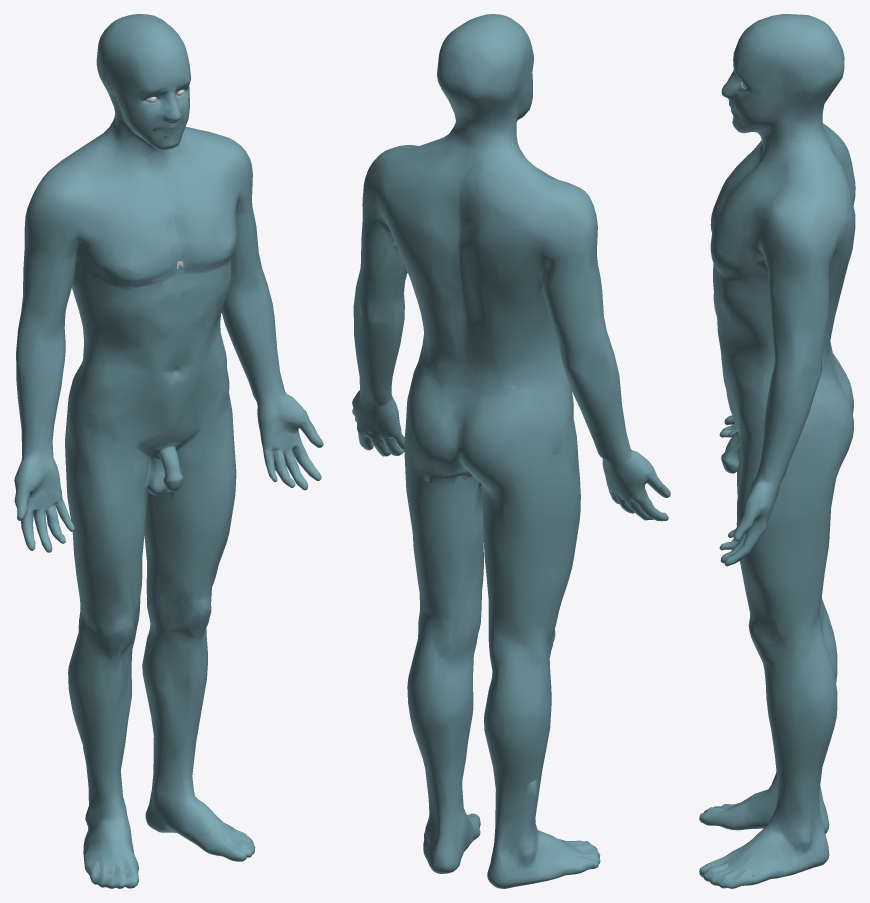
Rendered from anatomy.glb.
The picture shows the model from 3 angles, left to right: view 1: azimuth 30°, elevation 25°; view 2: azimuth 150°, elevation 25°; view 3: azimuth 270°, elevation 25°; orthographic projection. The views are drawn at different scales.
Parts seen in each view (by area): view 1: skin; view 2: skin; view 3: skin.
Boxes of the visible parts, x1,y1,x2,y2 form: skin: [14, 14, 323, 888]; skin: [352, 14, 670, 888]; skin: [699, 14, 855, 888].
Size of the model in its own units: 0.7036 by 1.81 by 0.3081.
